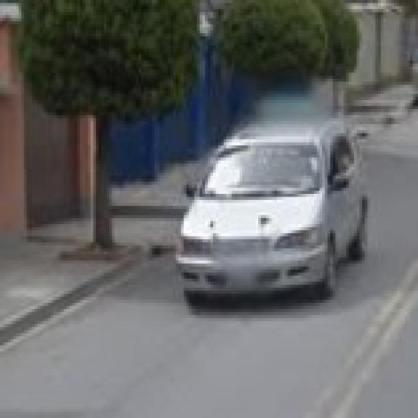car: (182, 121, 373, 306)
